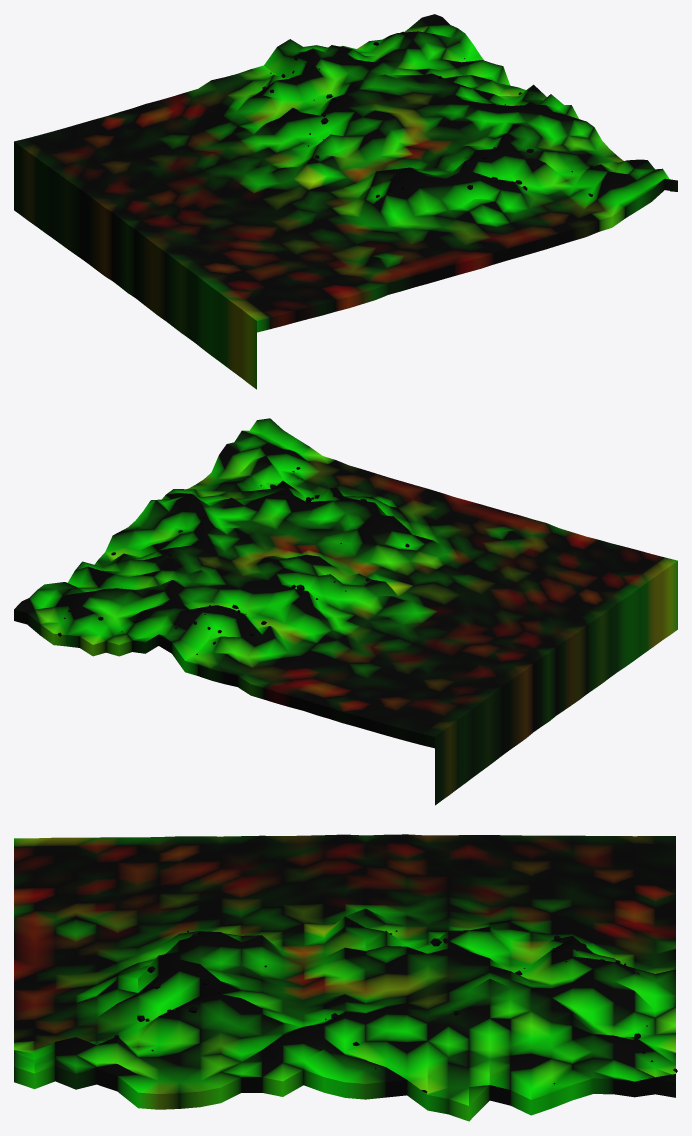
File: Terrain_06_07.fbx
The picture shows the model from 3 angles, top to bottom: view 1: azimuth 30°, elevation 25°; view 2: azimuth 150°, elevation 25°; view 3: azimuth 270°, elevation 25°; orthographic projection. The views are drawn at different scales.
Parts seen in each view (by area): view 1: Terrain_06_07_LOD0; view 2: Terrain_06_07_LOD0; view 3: Terrain_06_07_LOD0.
Boxes of the visible parts, left/top/right/bottom form: Terrain_06_07_LOD0: left=14, top=14, right=677, bottom=389; Terrain_06_07_LOD0: left=14, top=418, right=677, bottom=805; Terrain_06_07_LOD0: left=14, top=834, right=677, bottom=1121.
Size of what is drawn, in the model's own units: 384 by 98.93 by 385.
